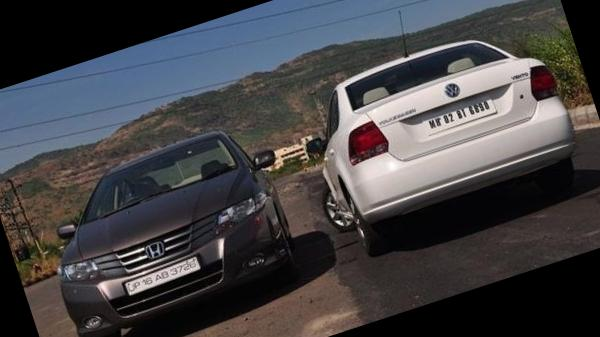plate: (399, 76, 514, 149)
